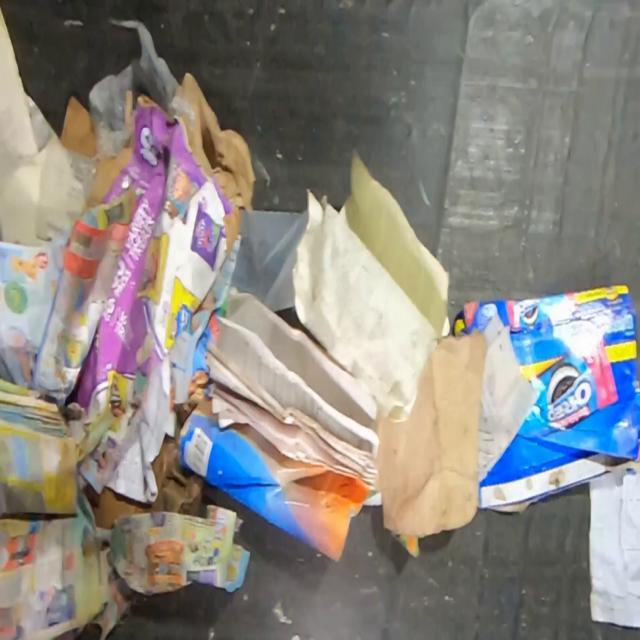cardboard: (64, 70, 258, 496), (452, 284, 640, 515), (373, 328, 488, 541), (82, 403, 206, 530), (58, 95, 94, 156)
soft_plastic: (61, 16, 180, 205), (228, 206, 308, 312)
